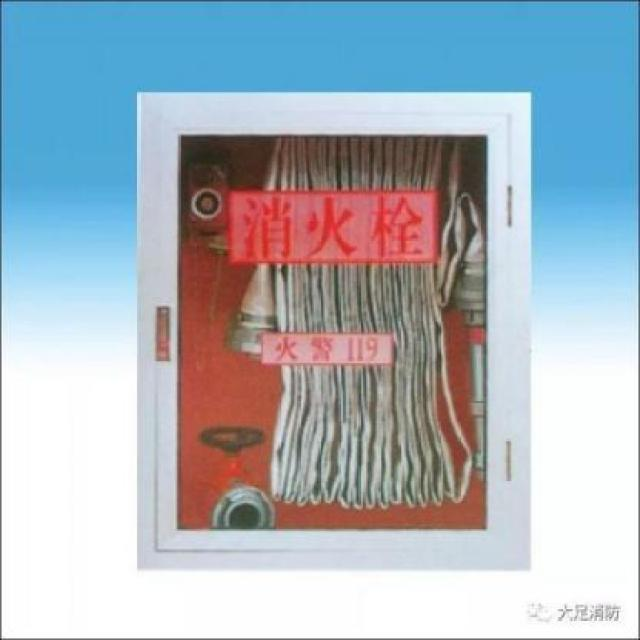firehydrant: (132, 86, 536, 579)
